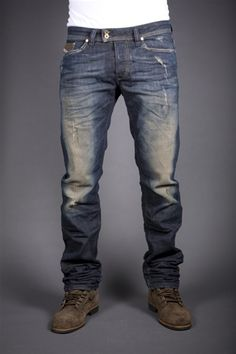jeans: (59, 24, 183, 293)
